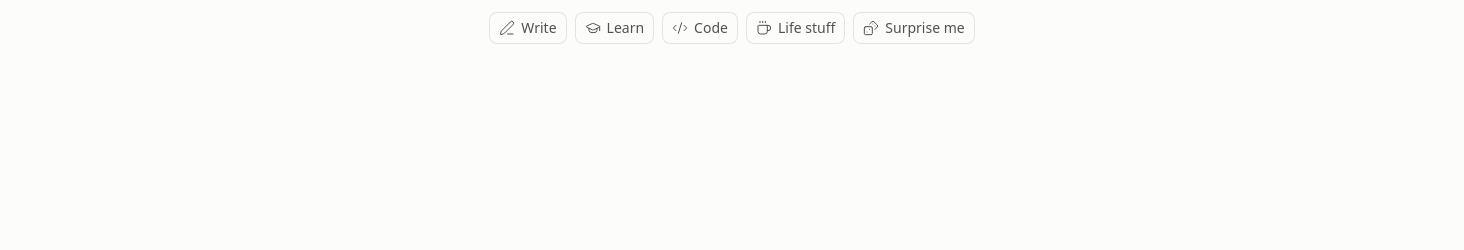
it: Starters › opens a category onto example prompts, and picking one hands it over and closes the list
Click the button "Learn": (614, 28) [575,12,654,44]
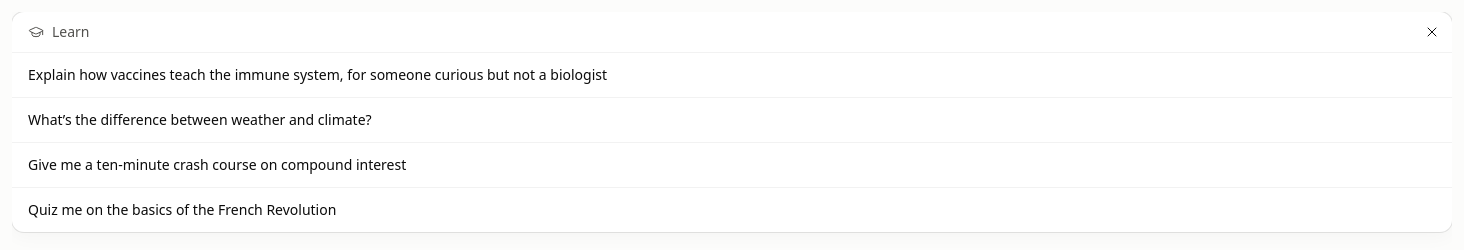
Check: the number of list items is 4
Click the button "What’s the difference between weather and climate?": (200, 120) [12,98,1452,142]
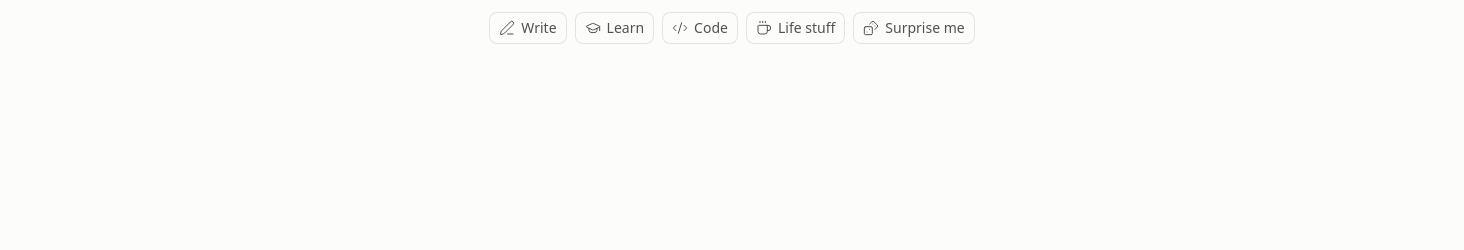
Check: the element named "Ideas to start with" is shown, box [489,12,975,44]
